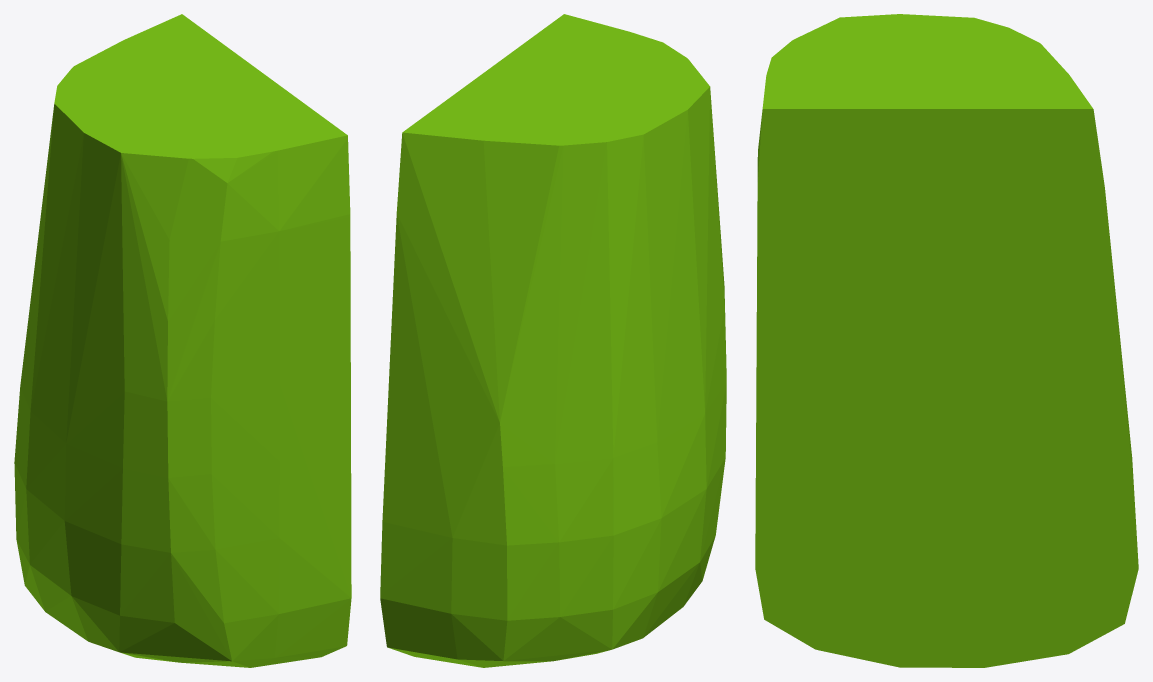
3 renders of one model, left to right at view 1: azimuth 30°, elevation 25°; view 2: azimuth 150°, elevation 25°; view 3: azimuth 270°, elevation 25°, orthographic. The views are drawn at different scales.
Size of the model in its own units: 0.0102 by 0.0255 by 0.0159.
